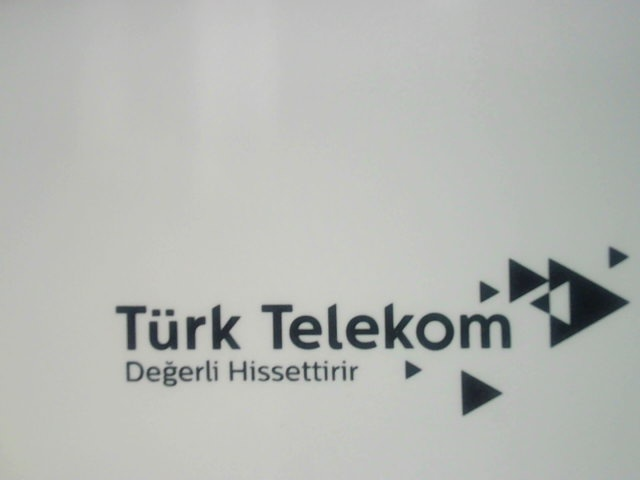AQ_TURKTelekom: (107, 235, 632, 417)
